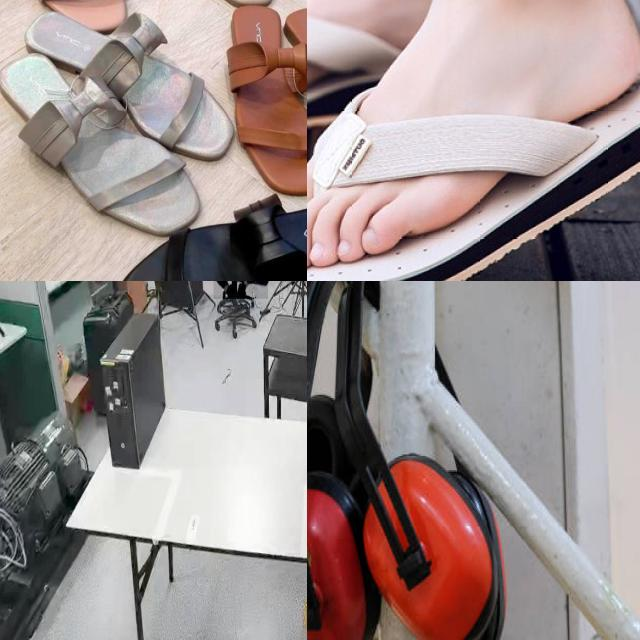Ear-protection: (336, 281, 505, 640), (307, 281, 373, 640)
Sandals: (307, 18, 640, 281), (0, 0, 235, 242), (103, 188, 307, 281), (216, 0, 307, 200)
